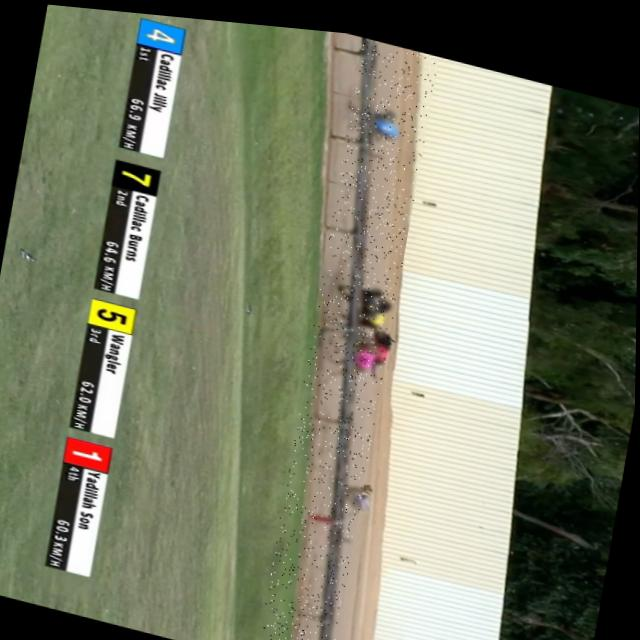dog_eight: (347, 340, 376, 367)
dog_five: (360, 300, 384, 319)
dog_four: (368, 108, 396, 132)
dog_one: (366, 334, 391, 357)
dog_seven: (353, 289, 378, 306)
dog_two: (343, 483, 372, 505)
rail: (319, 33, 376, 640)
